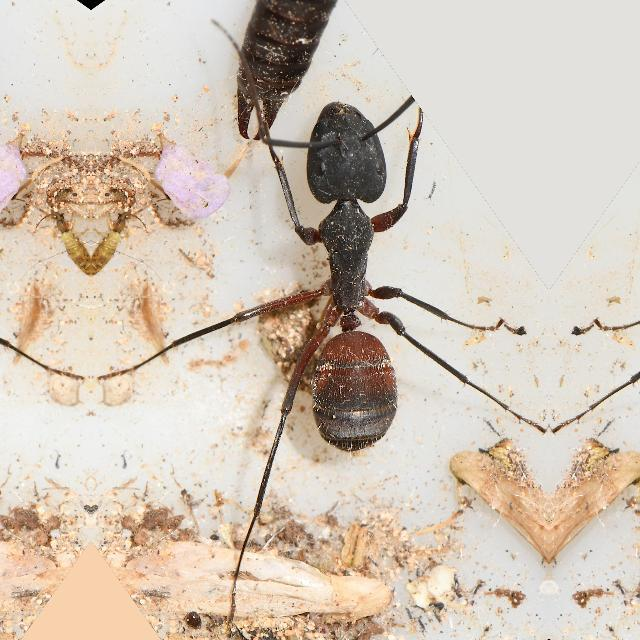Camponotus: (253, 51, 449, 510)
